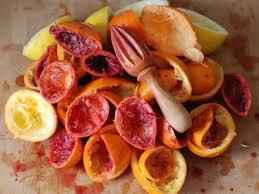Organic: (1, 3, 259, 191)
